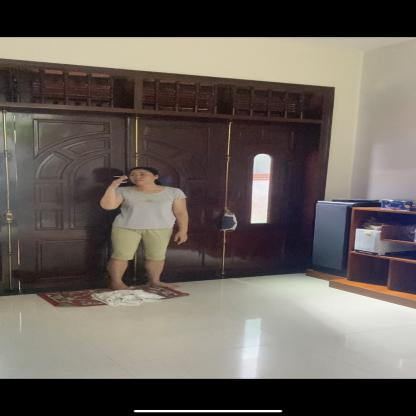cigarette: (111, 175, 123, 178)
person: (102, 163, 190, 299)
